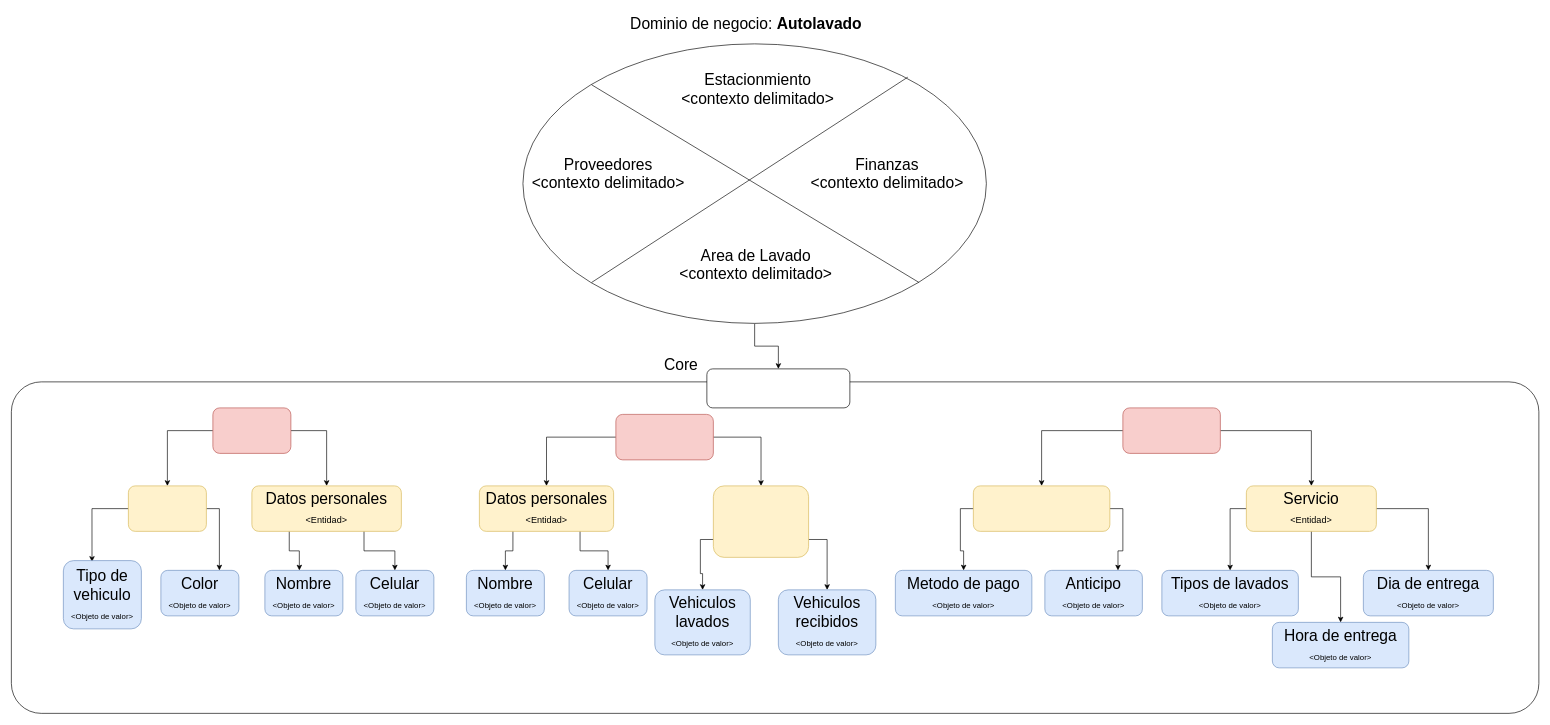
Some shapes in this 1550 by 725 pixel diagram are drawn without their labels. Each missing label, with the centre of its shape:
"Area de Lavado" goes at (x=778, y=388).
"Cliente <Agregado root>" goes at (x=251, y=430).
"Datos de cliente <Entidad>" goes at (x=1041, y=508).
"Factura < Agregado root >" goes at (x=1171, y=430).
"Lavador <Agregado root>" goes at (x=664, y=437).
"Vehiculo <Entidad>" goes at (x=167, y=508).
"Vehiculos Asignados <Entidad>" goes at (x=761, y=521).
